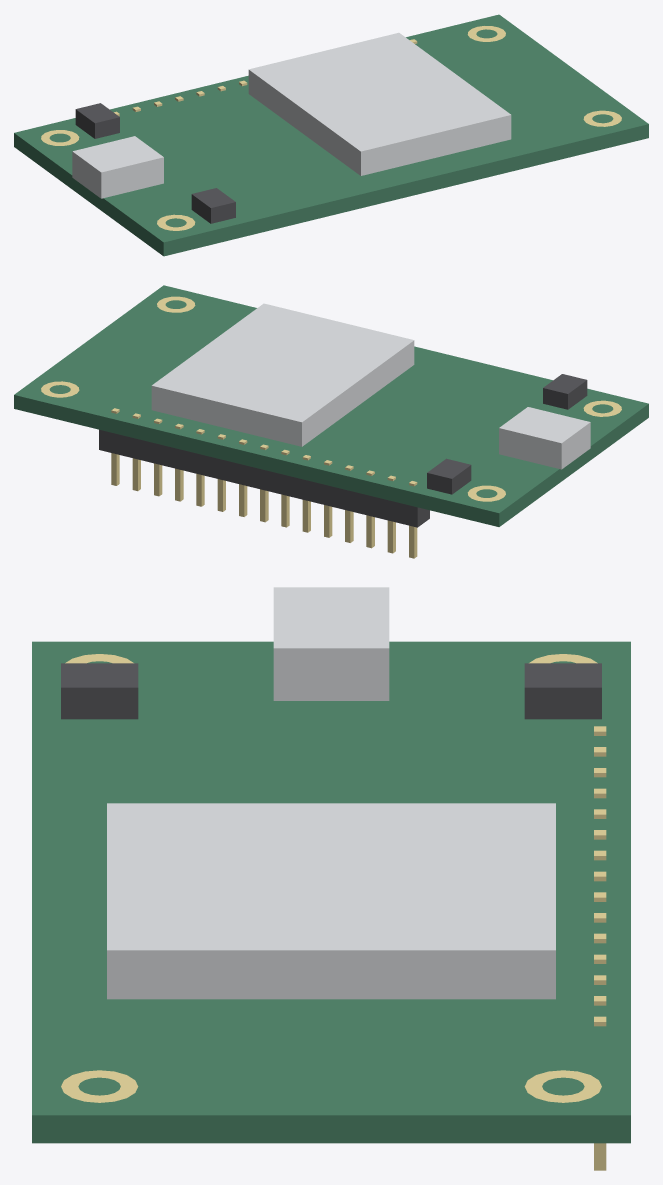
Rendered from nodemcu-esp8266-v3.glb.
The picture shows the model from 3 angles, top to bottom: view 1: azimuth 30°, elevation 25°; view 2: azimuth 150°, elevation 25°; view 3: azimuth 270°, elevation 25°; orthographic projection. The views are drawn at different scales.
Visible parts, largest first — view 1: nodemcu-esp8266-v3-pcb, nodemcu-esp8266-v3-metal, nodemcu-esp8266-v3-plastic, nodemcu-esp8266-v3-mounting-pads; view 2: nodemcu-esp8266-v3-pcb, nodemcu-esp8266-v3-metal, nodemcu-esp8266-v3-plastic, nodemcu-esp8266-v3-pins, nodemcu-esp8266-v3-mounting-pads; view 3: nodemcu-esp8266-v3-pcb, nodemcu-esp8266-v3-metal, nodemcu-esp8266-v3-plastic, nodemcu-esp8266-v3-mounting-pads, nodemcu-esp8266-v3-pins.
Part boxes in pixels (<box>): nodemcu-esp8266-v3-pcb: <box>14,14,648,256</box>; nodemcu-esp8266-v3-metal: <box>72,32,511,198</box>; nodemcu-esp8266-v3-plastic: <box>75,103,235,223</box>; nodemcu-esp8266-v3-mounting-pads: <box>41,26,621,230</box>; nodemcu-esp8266-v3-pcb: <box>14,285,648,526</box>; nodemcu-esp8266-v3-metal: <box>151,303,590,469</box>; nodemcu-esp8266-v3-plastic: <box>99,374,587,527</box>; nodemcu-esp8266-v3-pins: <box>111,408,417,558</box>; nodemcu-esp8266-v3-mounting-pads: <box>41,296,621,501</box>; nodemcu-esp8266-v3-pcb: <box>32,641,630,1143</box>; nodemcu-esp8266-v3-metal: <box>107,587,555,999</box>; nodemcu-esp8266-v3-plastic: <box>61,663,601,719</box>; nodemcu-esp8266-v3-mounting-pads: <box>61,654,601,1102</box>; nodemcu-esp8266-v3-pins: <box>594,726,606,1170</box>.
Bounding box in the file's own units: 0.0582 × 0.0112 × 0.031.
